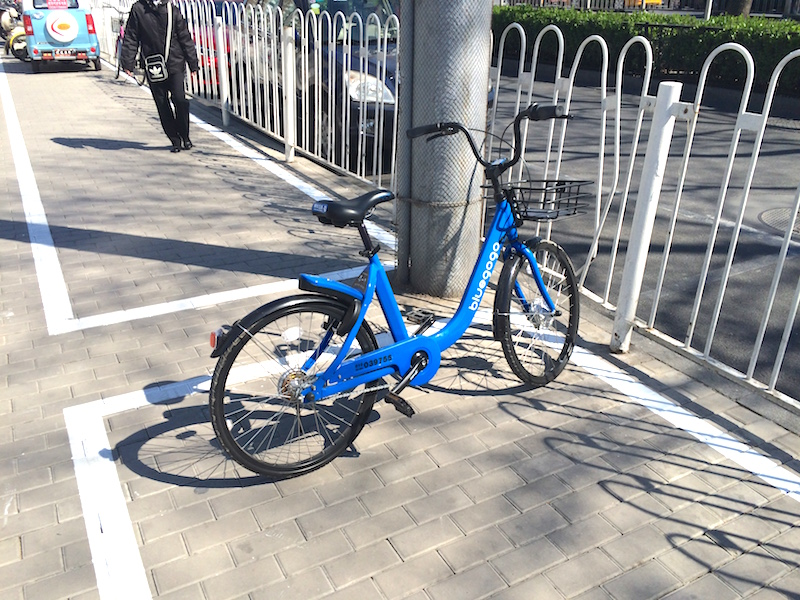bike: (169, 82, 638, 503)
